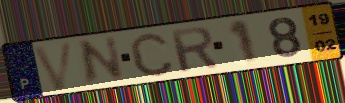1: (227, 18, 261, 67)
8: (267, 16, 304, 59)
C: (127, 30, 177, 78)
N: (77, 34, 127, 88)
R: (167, 25, 221, 74)
V: (30, 39, 77, 92)
